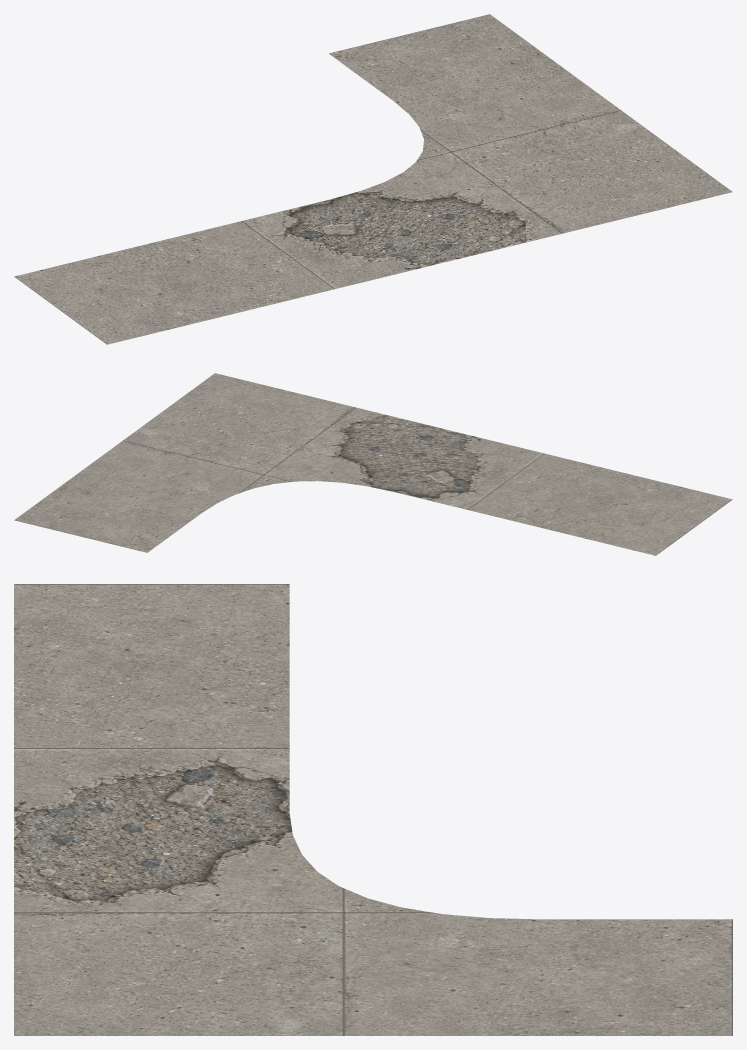
The model's file is SM_PAVING_6_0_Pothole.fbx.
The picture shows the model from 3 angles, top to bottom: view 1: azimuth 30°, elevation 25°; view 2: azimuth 150°, elevation 25°; view 3: azimuth 270°, elevation 25°; orthographic projection. The views are drawn at different scales.
Parts seen in each view (by area): view 1: SM_Update_PAVING_6_0_Pothole_v001; view 2: SM_Update_PAVING_6_0_Pothole_v001; view 3: SM_Update_PAVING_6_0_Pothole_v001.
Boxes of the visible parts, bbox=[...] form: SM_Update_PAVING_6_0_Pothole_v001: bbox=[14, 14, 732, 344]; SM_Update_PAVING_6_0_Pothole_v001: bbox=[14, 373, 732, 555]; SM_Update_PAVING_6_0_Pothole_v001: bbox=[14, 584, 732, 1035].
Size of the model in its own units: 2.75 by 0 by 1.85.
1 material, 1 textured.
